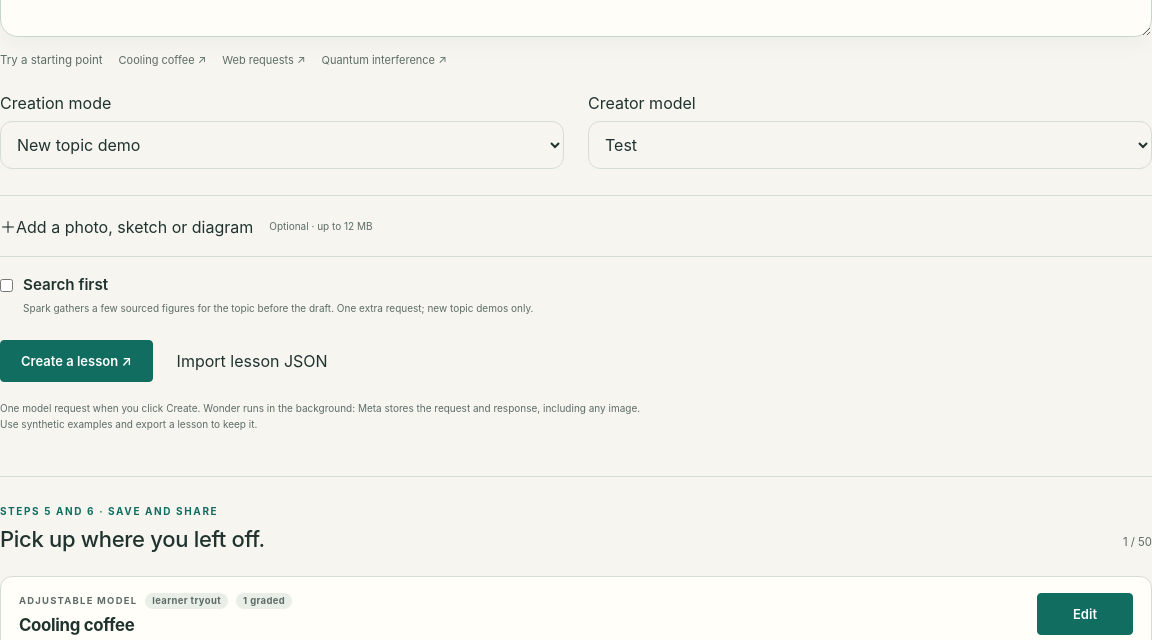
Test: Reopening a saved lesson › restores the learner tryout and an explain-back grade without any provider request
(page scrolled)
Click the button "Edit" at point(1085, 614), box [1037,593,1133,635]
(page scrolled)
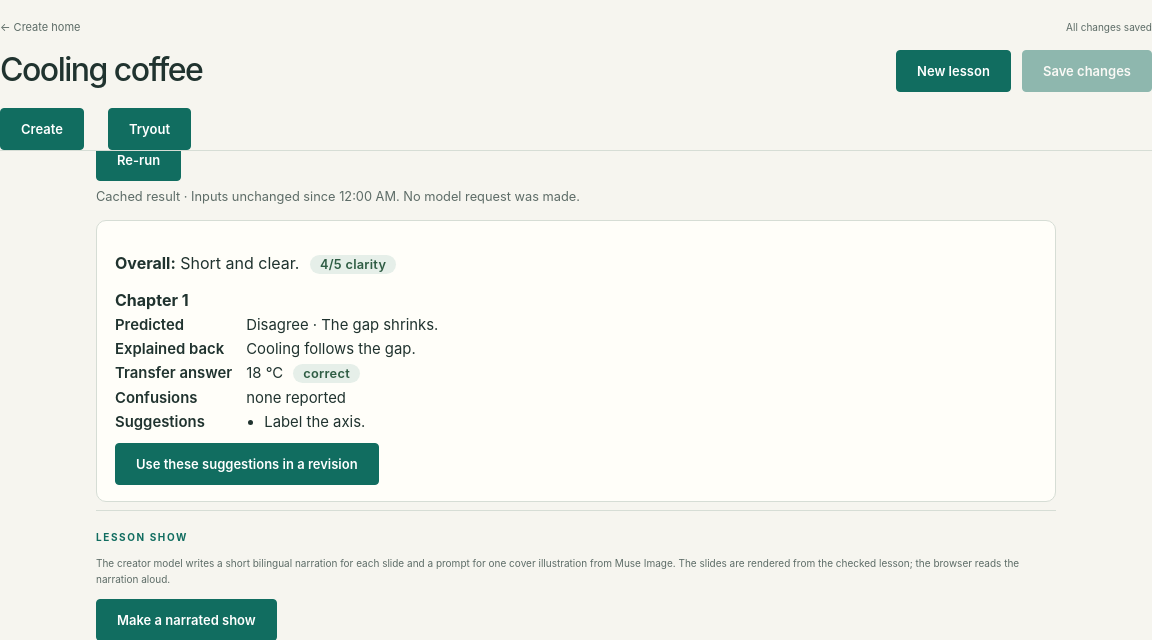
Expected: the text "Overall: Short and clear. 4/5 clarity" is shown, [115,253,396,274]
Expected: the message with class "tryout-report" shows "4/5", [96,220,1056,502]
